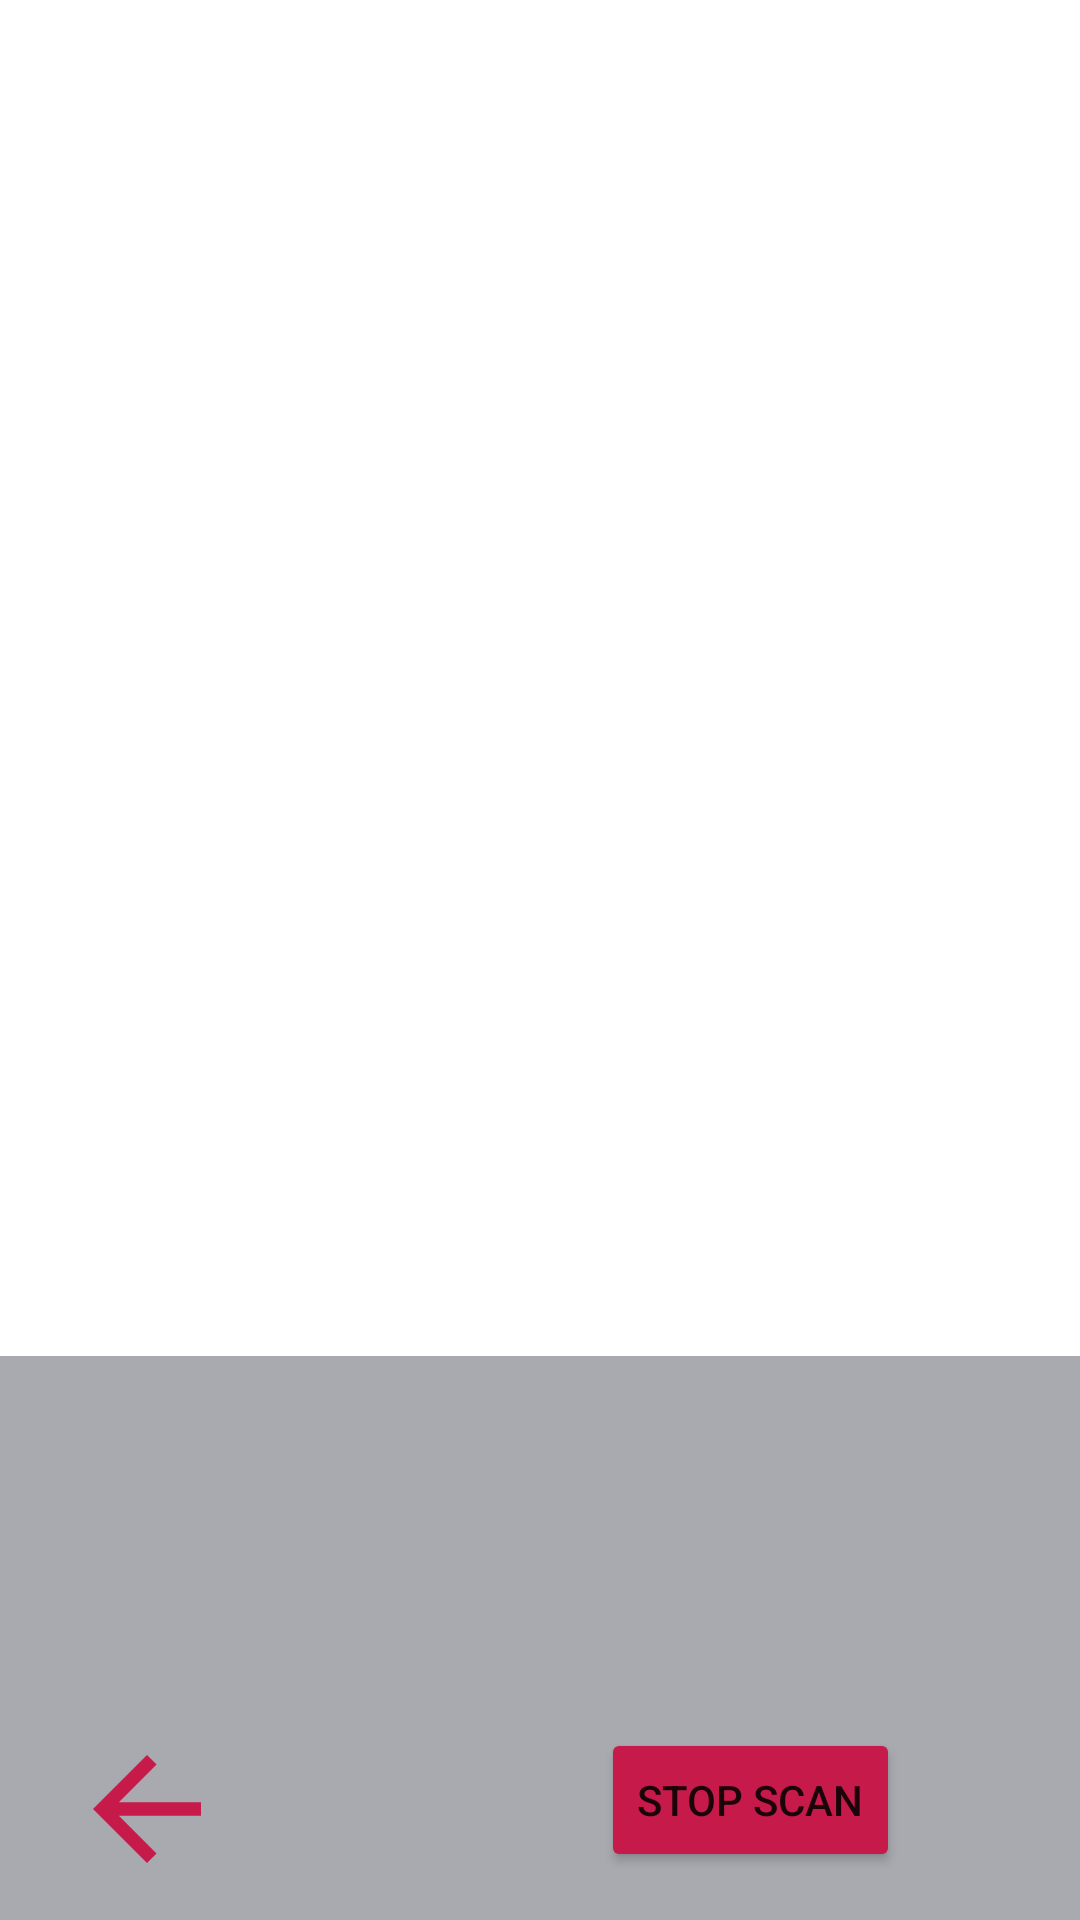

Icons on this 1080×1920 Android screen, each with its box as (x1, y1, x2, y2):
arrow back: (93, 1755, 201, 1863)
